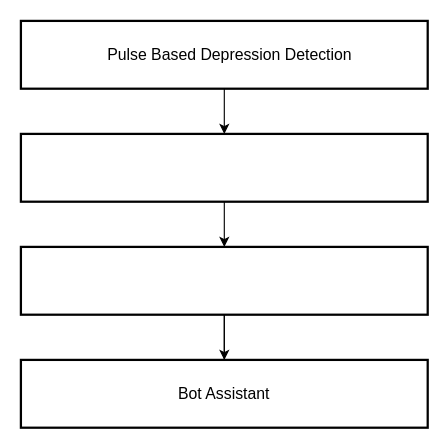
This 447x447 diagram has some shape labels left out. The box of each missing label's shape, as (x1, y1, x2, y2) in pixels:
Facial Emotion Detection: (19, 132, 428, 202)
Questionnaire: (19, 245, 428, 315)
